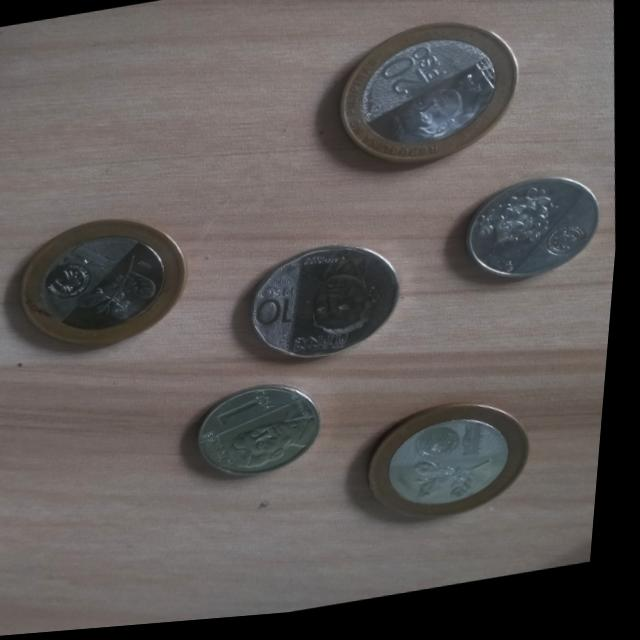10_New_Front: (251, 284, 310, 344)
1_New_Front: (216, 392, 289, 437)
20_New_Back: (69, 246, 174, 337)
20_New_Front: (363, 42, 458, 115)
